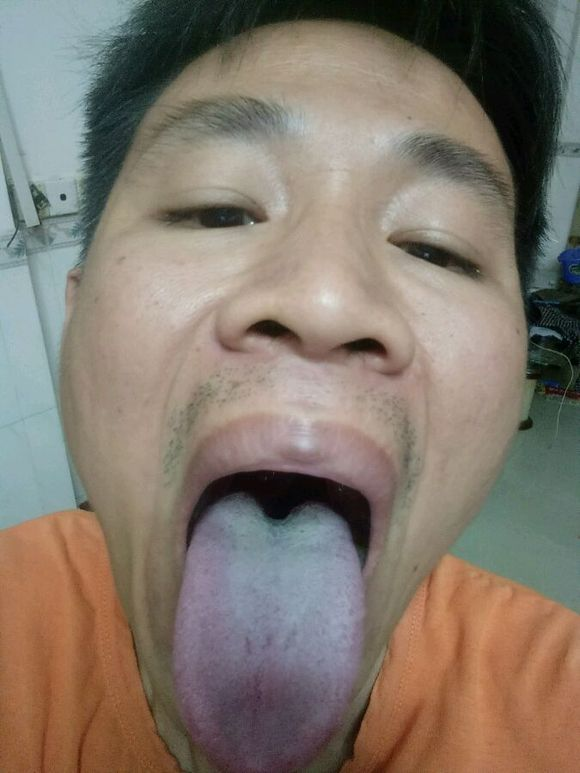huangtaishe: (173, 491, 365, 773)
shenquao: (238, 491, 315, 536)
zishe: (173, 491, 365, 773)
